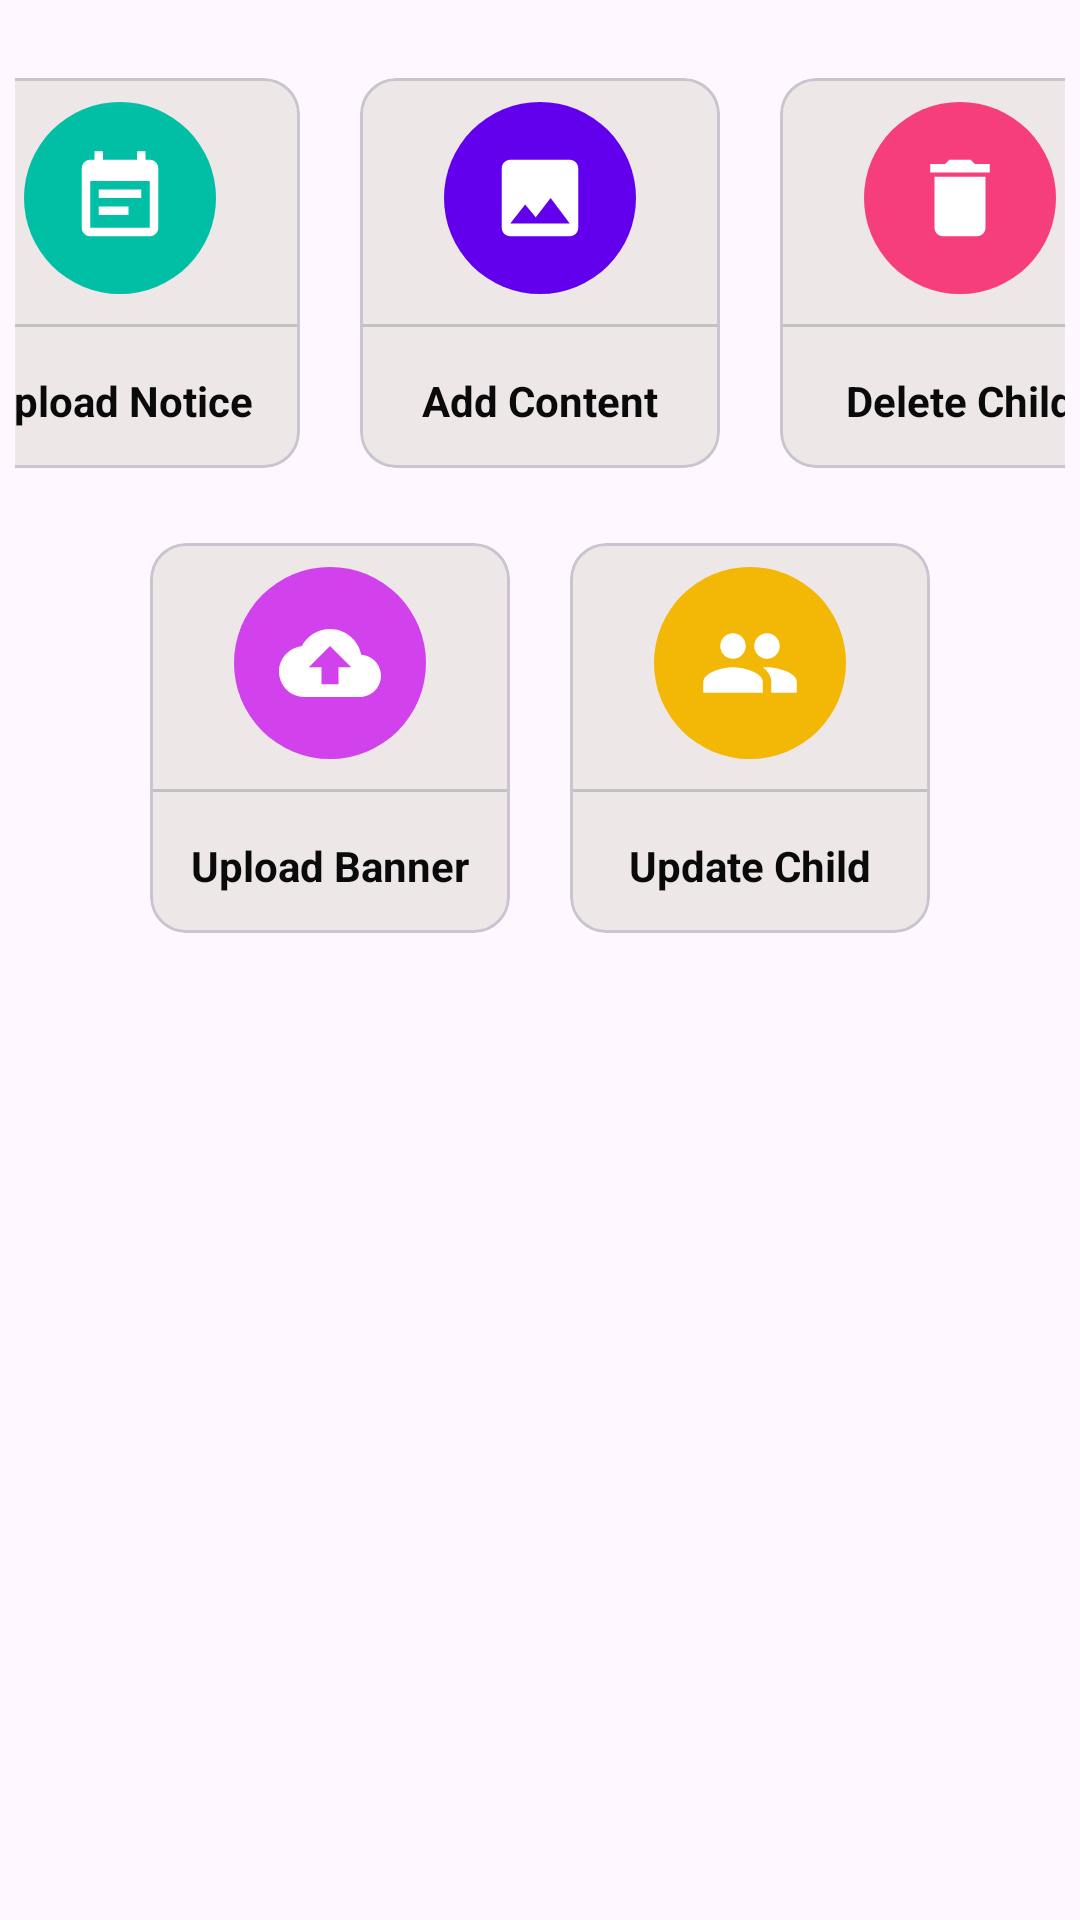

Icon bounding boxes for this 1080 x 1920 phone screenshot, format (x1, y1, x2, y2):
gallery: (444, 102, 636, 294)
